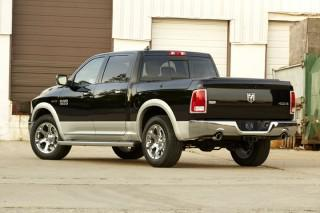ram: (245, 90, 259, 105)
